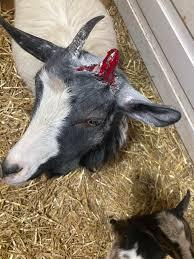bleeding: (84, 48, 129, 87)
